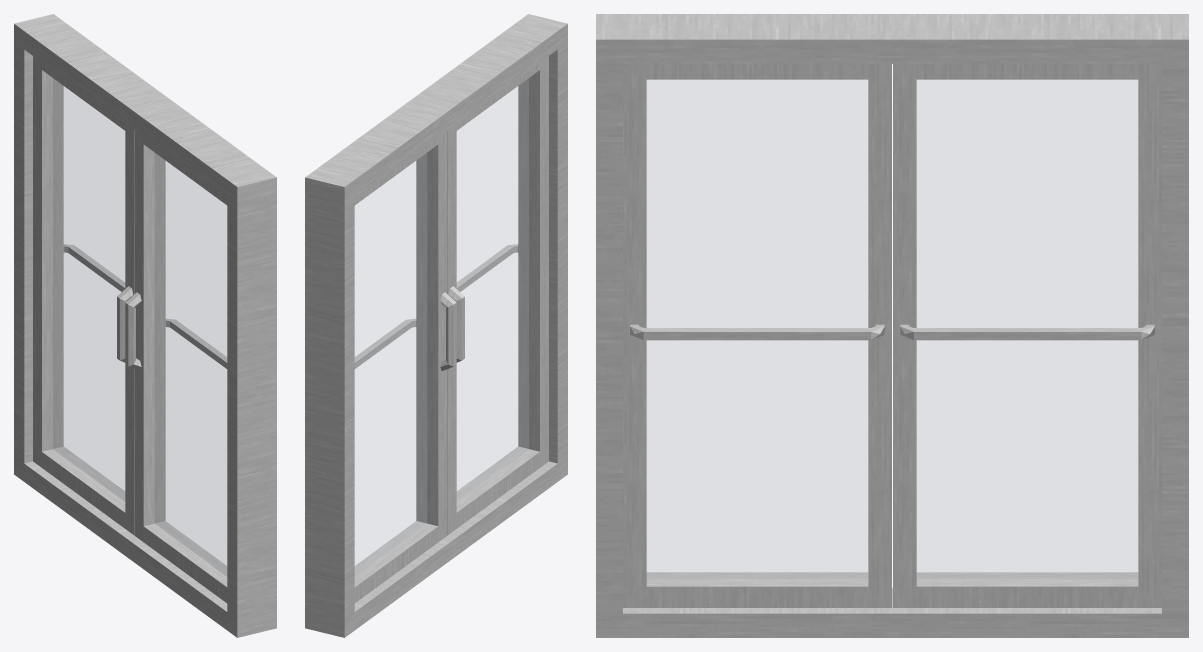
Rendered from doubledoors.glb.
3 views of the same model, side by side, from view 1: azimuth 30°, elevation 25°; view 2: azimuth 150°, elevation 25°; view 3: azimuth 270°, elevation 25° (orthographic). The views are drawn at different scales.
Visible parts, largest first — view 1: DoorFrame, DoorRight, DoorLeft; view 2: DoorFrame, DoorLeft, DoorRight; view 3: DoorLeft, DoorRight, DoorFrame.
Boxes of the visible parts, x1,y1,x2,y2 form: DoorFrame: (14, 14, 276, 637); DoorRight: (33, 56, 134, 535); DoorLeft: (125, 130, 227, 603); DoorFrame: (305, 14, 567, 637); DoorLeft: (447, 56, 548, 535); DoorRight: (354, 130, 456, 603); DoorLeft: (623, 64, 891, 607); DoorRight: (893, 64, 1161, 607); DoorFrame: (596, 14, 1188, 637).
Bounding box in the file's own units: 0.2586 × 2.45 × 2.2.
Materials: 2 (1 with a texture image).
